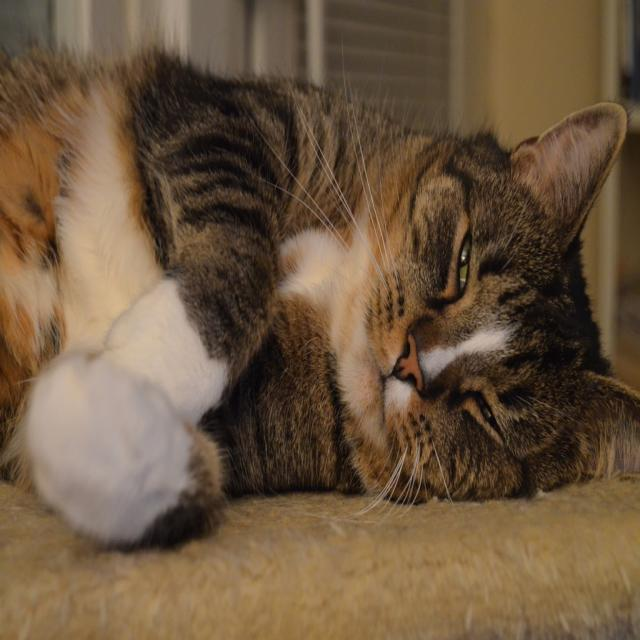Cat: (0, 29, 639, 552)
